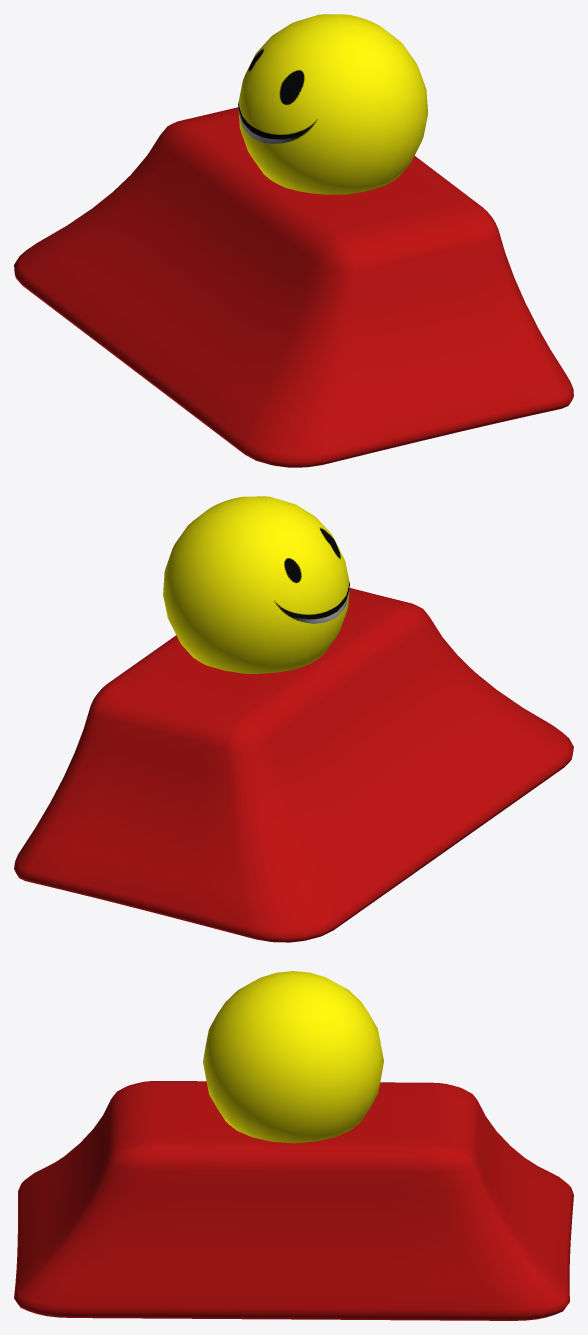
The picture shows the model from 3 angles, top to bottom: view 1: azimuth 30°, elevation 25°; view 2: azimuth 150°, elevation 25°; view 3: azimuth 270°, elevation 25°; orthographic projection. The views are drawn at different scales.
Visible parts, largest first — view 1: Cube, Sphere; view 2: Cube, Sphere; view 3: Cube, Sphere.
Boxes of the visible parts, bbox=[...] form: Cube: bbox=[14, 107, 573, 467]; Sphere: bbox=[238, 14, 427, 194]; Cube: bbox=[14, 588, 573, 942]; Sphere: bbox=[163, 496, 349, 673]; Cube: bbox=[14, 1081, 573, 1320]; Sphere: bbox=[203, 971, 383, 1143].
Size of the model in its own units: 405 by 369 by 640.
Materials: 2 (1 with a texture image).
